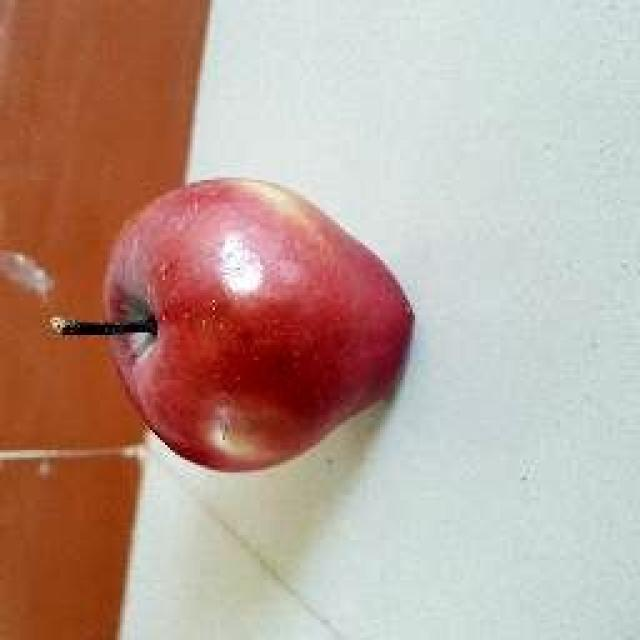Good_Apple: (100, 179, 414, 471)
